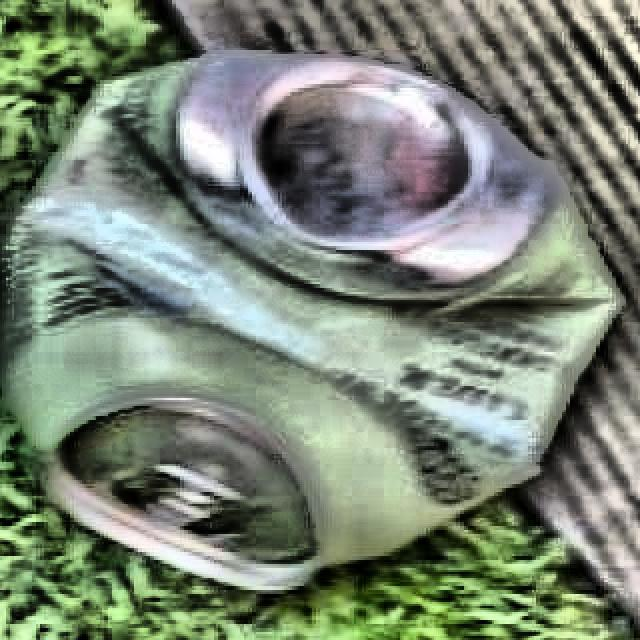metal: (0, 49, 632, 604)
